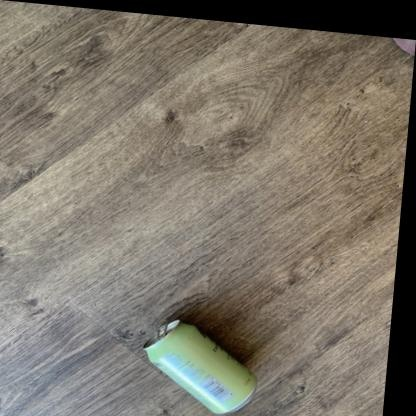trash: (145, 320, 255, 413)
